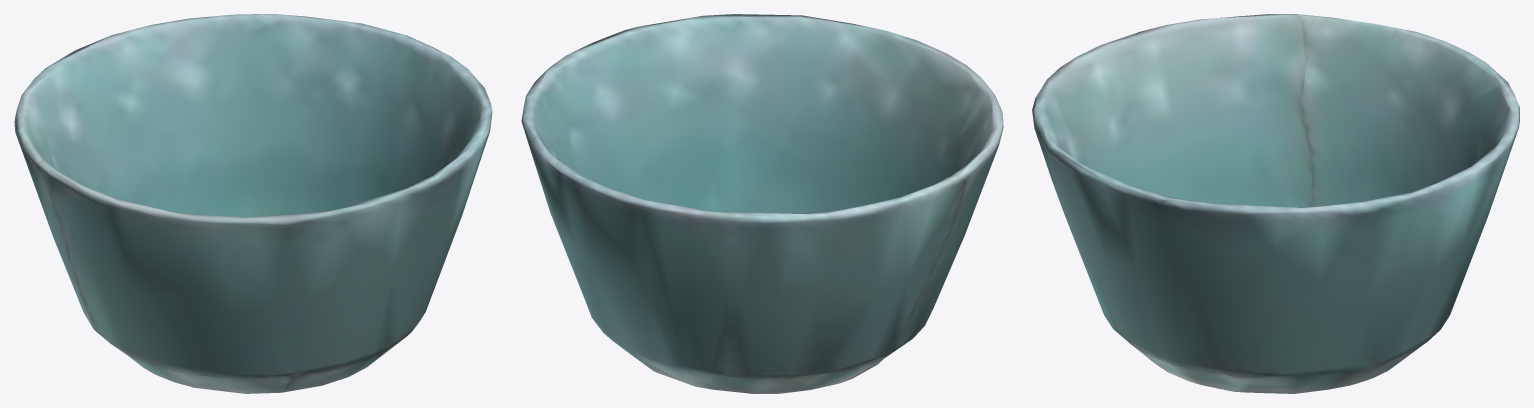
File: Room_Essentials_Bowl_Turquiose-medium.glb
3 renders of one model, left to right at view 1: azimuth 30°, elevation 25°; view 2: azimuth 150°, elevation 25°; view 3: azimuth 270°, elevation 25°, orthographic.
Parts seen in each view (by area): view 1: Room_Essentials_Bowl_Turquiose; view 2: Room_Essentials_Bowl_Turquiose; view 3: Room_Essentials_Bowl_Turquiose.
Part boxes in pixels (x1,y1,x2,y2): Room_Essentials_Bowl_Turquiose: (14, 14, 492, 393); Room_Essentials_Bowl_Turquiose: (521, 14, 1003, 393); Room_Essentials_Bowl_Turquiose: (1032, 14, 1519, 393).
Size of the model in its own units: 0.1569 by 0.0825 by 0.157.
Materials: 1 (1 with a texture image).
